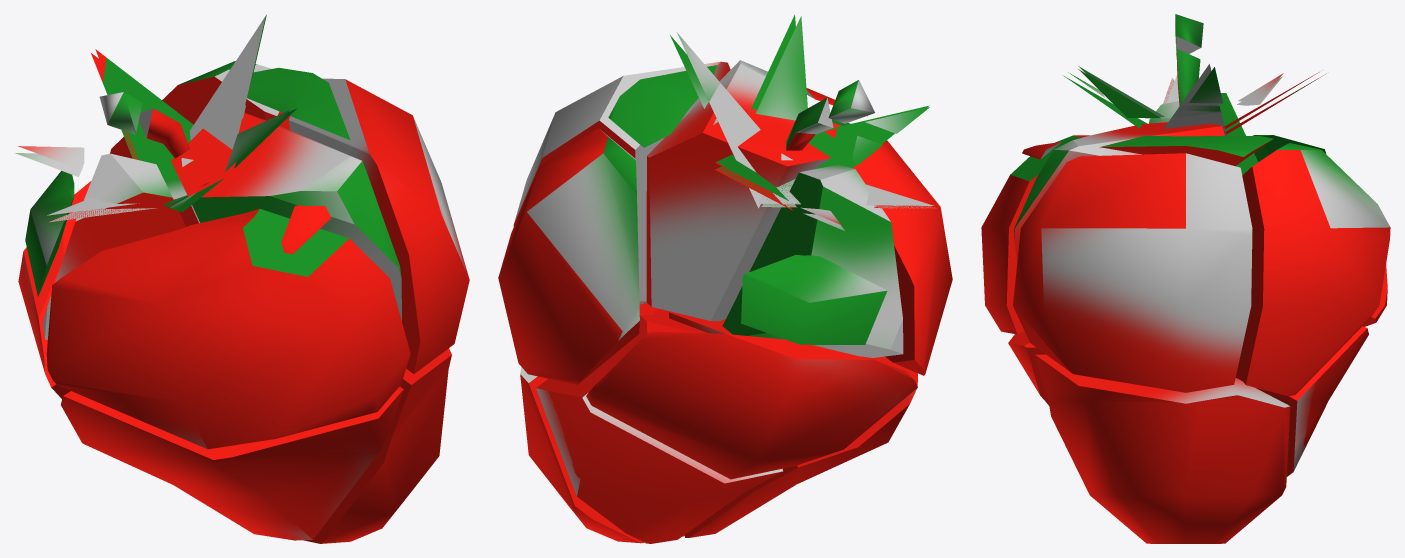
The model's file is FresaRota.fbx.
3 views of the same model, side by side, from view 1: azimuth 30°, elevation 25°; view 2: azimuth 150°, elevation 25°; view 3: azimuth 270°, elevation 25° (orthographic). The views are drawn at different scales.
Visible parts, largest first — view 1: strawberry_cell, strawberry_cell.006, strawberry_cell.011, strawberry_cell.002, strawberry_cell.012, strawberry_cell.005, strawberry_cell.014, strawberry_cell.021, strawberry_cell.028, strawberry_cell.003, strawberry_cell.025, strawberry_cell.013 (+5 smaller); view 2: strawberry_cell.013, strawberry_cell.003, strawberry_cell.002, strawberry_cell.001, strawberry_cell.005, strawberry_cell.028, strawberry_cell, strawberry_cell.011, strawberry_cell.006, strawberry_cell.012, strawberry_cell.014, strawberry_cell.034 (+10 smaller); view 3: strawberry_cell.011, strawberry_cell.012, strawberry_cell.003, strawberry_cell, strawberry_cell.002, strawberry_cell.001, strawberry_cell.014, strawberry_cell.005, strawberry_cell.006, strawberry_cell.021, strawberry_cell.033, strawberry_cell.035 (+3 smaller).
Part boxes in pixels (x1,y1,x2,y2): strawberry_cell: (46,208,410,449); strawberry_cell.006: (61,386,403,540); strawberry_cell.011: (288,78,469,373); strawberry_cell.002: (171,112,401,320); strawberry_cell.012: (304,348,451,543); strawberry_cell.005: (42,153,186,339); strawberry_cell.014: (247,67,350,139); strawberry_cell.021: (189,17,265,149); strawberry_cell.028: (25,171,74,296); strawberry_cell.003: (110,61,290,226); strawberry_cell.025: (104,57,193,180); strawberry_cell.013: (18,181,91,398); strawberry_cell.013: (586,331,917,479); strawberry_cell.003: (498,128,639,384); strawberry_cell.002: (646,60,830,321); strawberry_cell.001: (536,314,782,543); strawberry_cell.005: (722,164,903,357); strawberry_cell.028: (741,254,887,344); strawberry_cell: (832,119,952,375); strawberry_cell.011: (513,61,730,304); strawberry_cell.006: (669,311,917,537); strawberry_cell.012: (520,302,684,543); strawberry_cell.014: (608,65,716,147); strawberry_cell.034: (755,16,807,120); strawberry_cell.011: (1013,153,1252,392); strawberry_cell.012: (1035,354,1290,543); strawberry_cell.003: (1236,143,1390,396); strawberry_cell: (981,135,1089,334); strawberry_cell.002: (1014,122,1224,260); strawberry_cell.001: (1235,326,1368,476); strawberry_cell.014: (1099,136,1273,165); strawberry_cell.005: (1149,93,1258,175); strawberry_cell.006: (1008,331,1049,405); strawberry_cell.021: (1164,64,1226,135); strawberry_cell.033: (1175,14,1203,59); strawberry_cell.035: (1176,49,1200,105).
Bounding box in the file's own units: 128 × 159 × 128.
